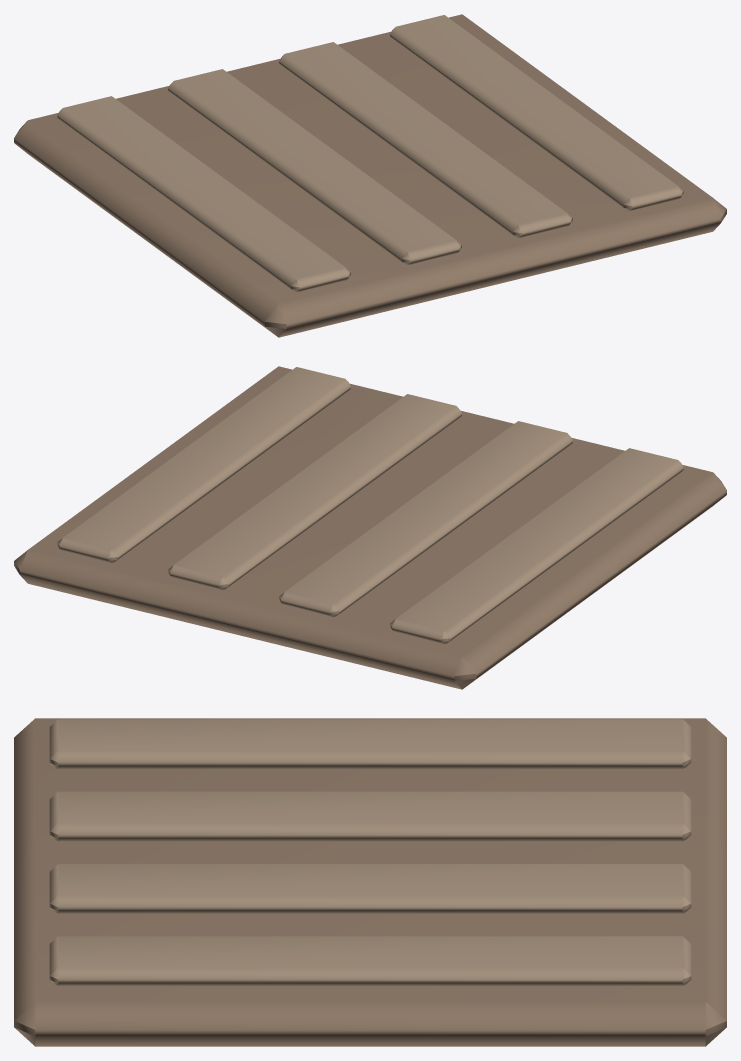
File: soil_bed.gltf
3 views of the same model, one above another, from view 1: azimuth 30°, elevation 25°; view 2: azimuth 150°, elevation 25°; view 3: azimuth 270°, elevation 25° (orthographic). The views are drawn at different scales.
Visible parts, largest first — view 1: soil_bed; view 2: soil_bed; view 3: soil_bed.
Part boxes in pixels (<box>): soil_bed: <box>14,14,726,337</box>; soil_bed: <box>14,366,726,689</box>; soil_bed: <box>14,718,726,1046</box>.
Bounding box in the file's own units: 1 × 0.095 × 1.
